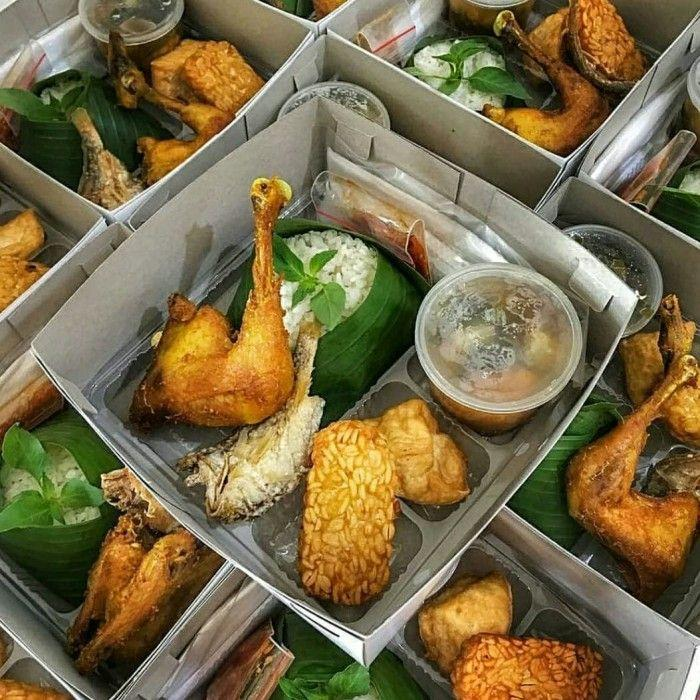daging: (165, 343, 282, 407), (615, 500, 688, 550), (227, 439, 279, 487), (88, 154, 116, 193), (527, 115, 573, 137), (151, 145, 180, 161)
kacang_legume: (327, 432, 375, 571), (476, 645, 579, 696), (396, 423, 437, 483), (586, 5, 616, 73), (440, 602, 504, 628), (198, 54, 236, 87)
makanan_berpati: (335, 249, 363, 277)
